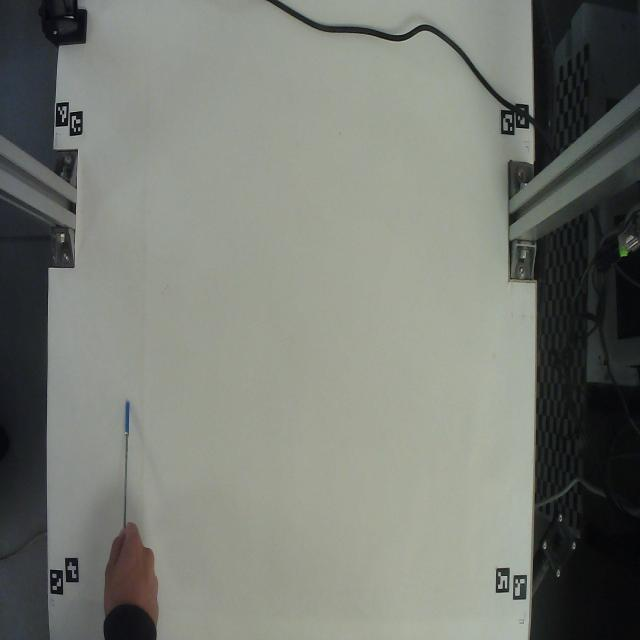Pres: (108, 388, 154, 526)
